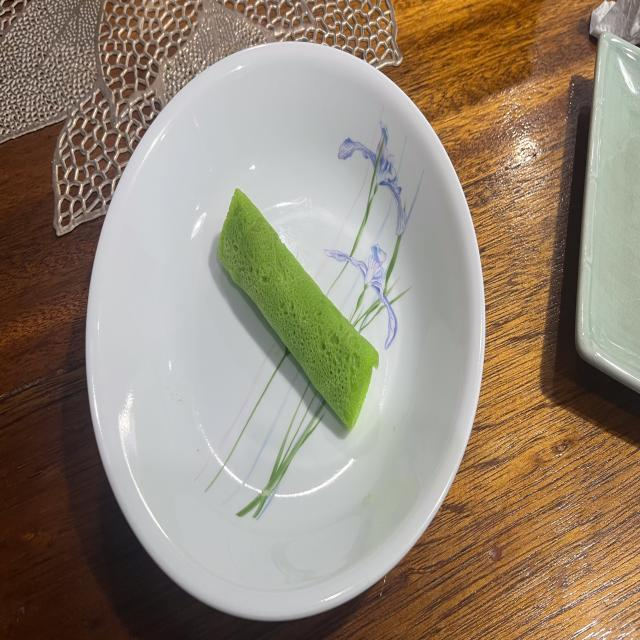Kuih-Ketayap: (218, 189, 379, 429)
